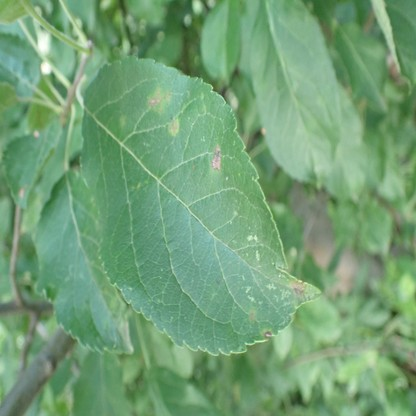scab: (147, 86, 170, 113), (288, 278, 307, 299), (212, 146, 221, 170), (168, 119, 179, 136), (261, 327, 273, 339), (246, 309, 255, 322), (118, 113, 125, 126)
